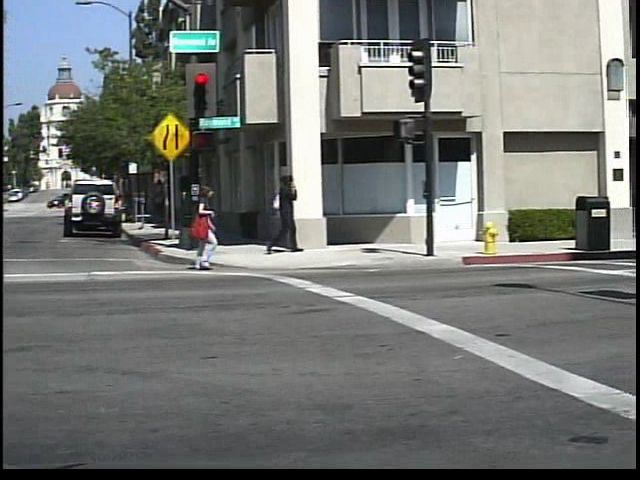person: (187, 179, 238, 270), (272, 168, 314, 254)
